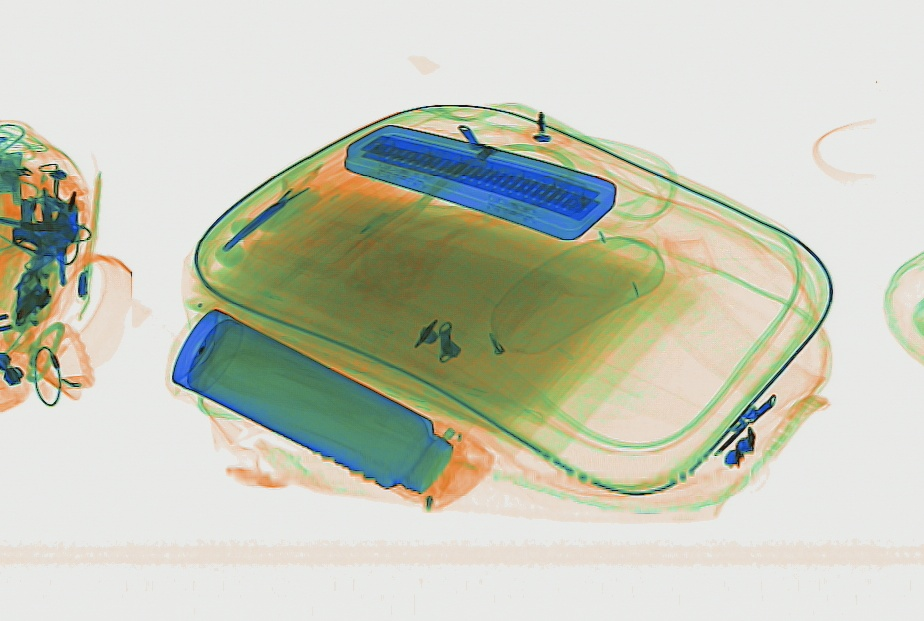scissors: (218, 149, 339, 253)
